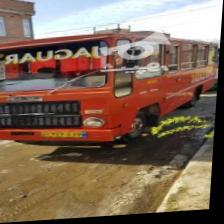plate: (46, 129, 92, 141)
